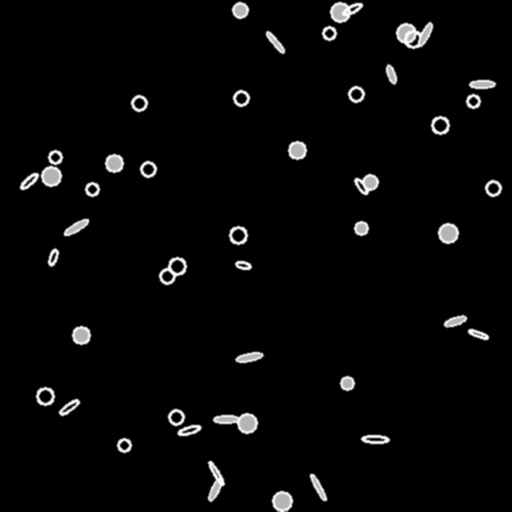pseudomonas: (309, 473, 327, 501), (265, 30, 285, 54), (207, 460, 225, 486), (63, 218, 89, 236), (416, 21, 434, 47), (58, 398, 80, 416), (207, 477, 223, 501), (19, 172, 39, 190), (341, 1, 363, 17), (177, 423, 201, 437), (443, 314, 467, 328), (235, 351, 263, 363), (353, 176, 369, 196), (467, 328, 489, 340), (385, 64, 397, 84), (361, 435, 389, 443), (213, 415, 239, 423), (470, 80, 494, 88), (48, 248, 58, 266), (235, 260, 251, 270)
synechocystis: (397, 24, 415, 42), (331, 3, 349, 21), (42, 167, 60, 185), (238, 414, 256, 432), (439, 224, 457, 242), (273, 492, 291, 510), (106, 155, 122, 171), (73, 327, 89, 343), (432, 117, 448, 133), (230, 227, 246, 243), (37, 388, 53, 404), (169, 258, 185, 274), (289, 142, 305, 158), (405, 31, 421, 47), (141, 162, 155, 176), (160, 269, 174, 283), (349, 87, 363, 101), (132, 96, 146, 110), (233, 3, 247, 17), (486, 181, 500, 195), (363, 175, 377, 189), (234, 91, 248, 105), (169, 410, 183, 424), (49, 151, 61, 163), (323, 27, 335, 39), (467, 95, 479, 107), (341, 377, 353, 389), (355, 222, 367, 234), (86, 183, 98, 195), (118, 439, 130, 451)
